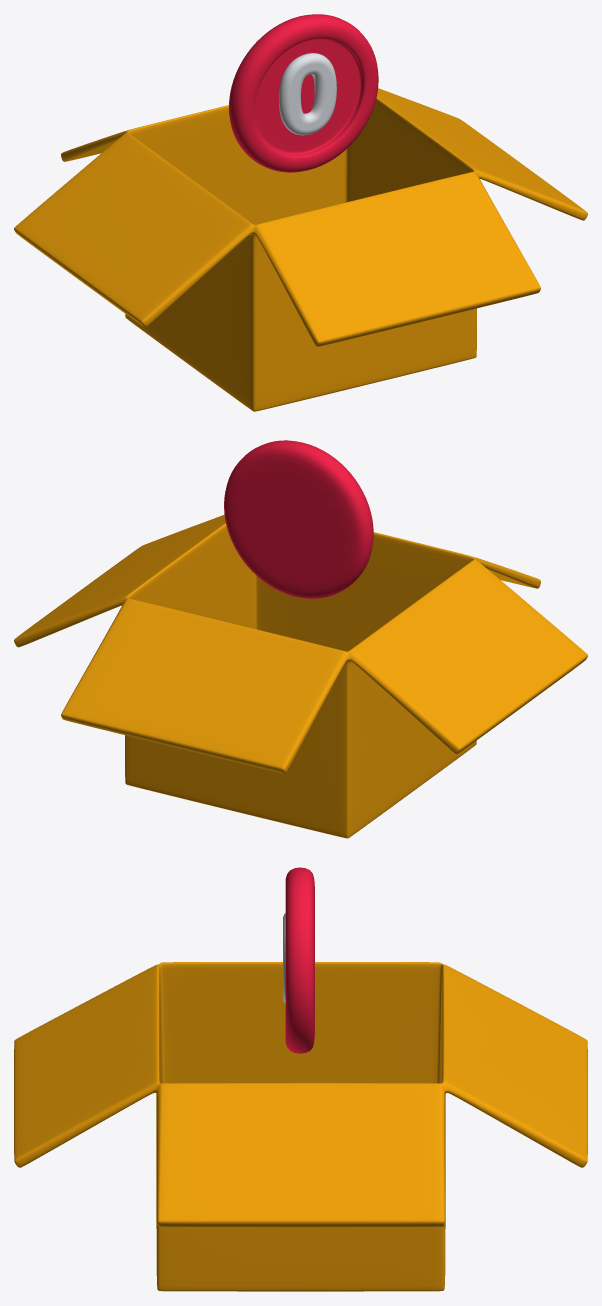
Rendered from empty-box-3d-animated-icon-1578239483135.glb.
3 renders of one model, top to bottom at view 1: azimuth 30°, elevation 25°; view 2: azimuth 150°, elevation 25°; view 3: azimuth 270°, elevation 25°, orthographic. The views are drawn at different scales.
Parts seen in each view (by area): view 1: Cube, X SIGN.001, Text; view 2: Cube, X SIGN.001; view 3: Cube, X SIGN.001.
Boxes of the visible parts, left/top/right/bottom form: Cube: left=14, top=88, right=587, bottom=411; X SIGN.001: left=229, top=14, right=378, bottom=172; Text: left=279, top=53, right=336, bottom=135; Cube: left=14, top=514, right=587, bottom=838; X SIGN.001: left=224, top=440, right=373, bottom=598; Cube: left=14, top=962, right=587, bottom=1291; X SIGN.001: left=285, top=867, right=314, bottom=1053.
Bounding box in the file's own units: 1.25 × 0.8608 × 1.25.
